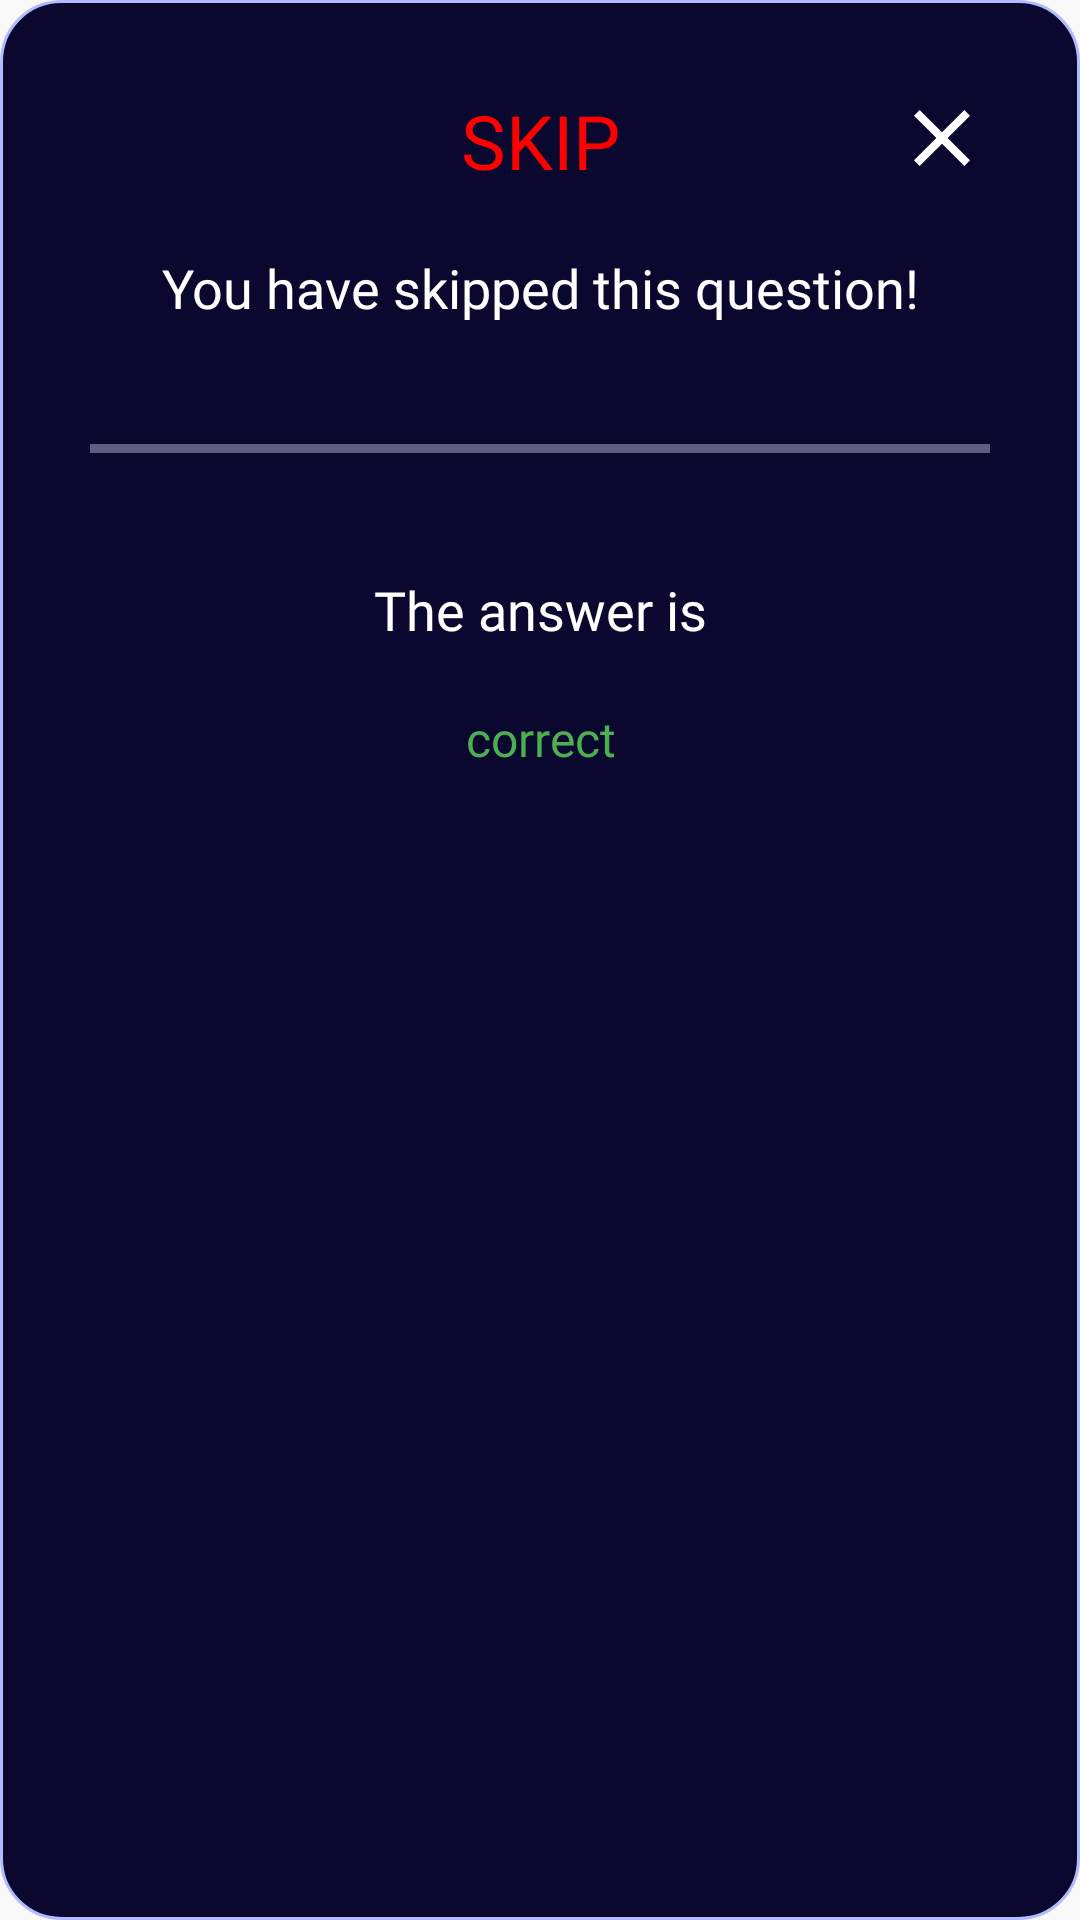

Icons on this 1080px×1920px Android screen, each with the point to tap as (x,y):
clear: (942,138)
